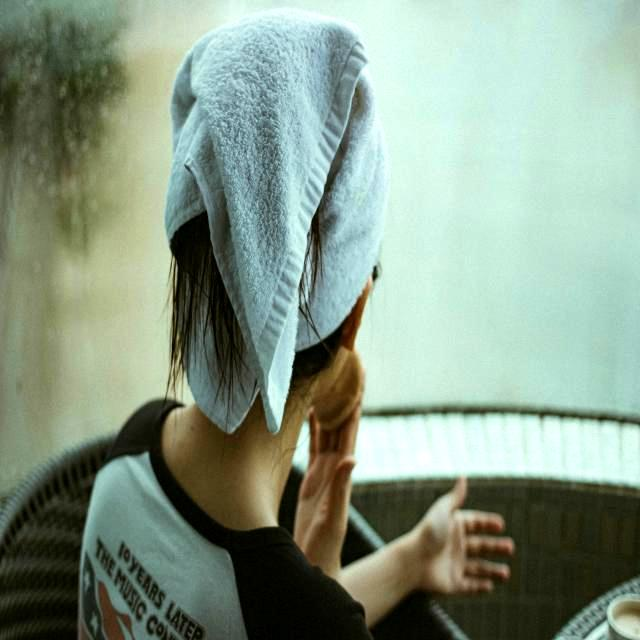no_hard_hat: (165, 9, 389, 434)
person: (78, 10, 514, 640)
